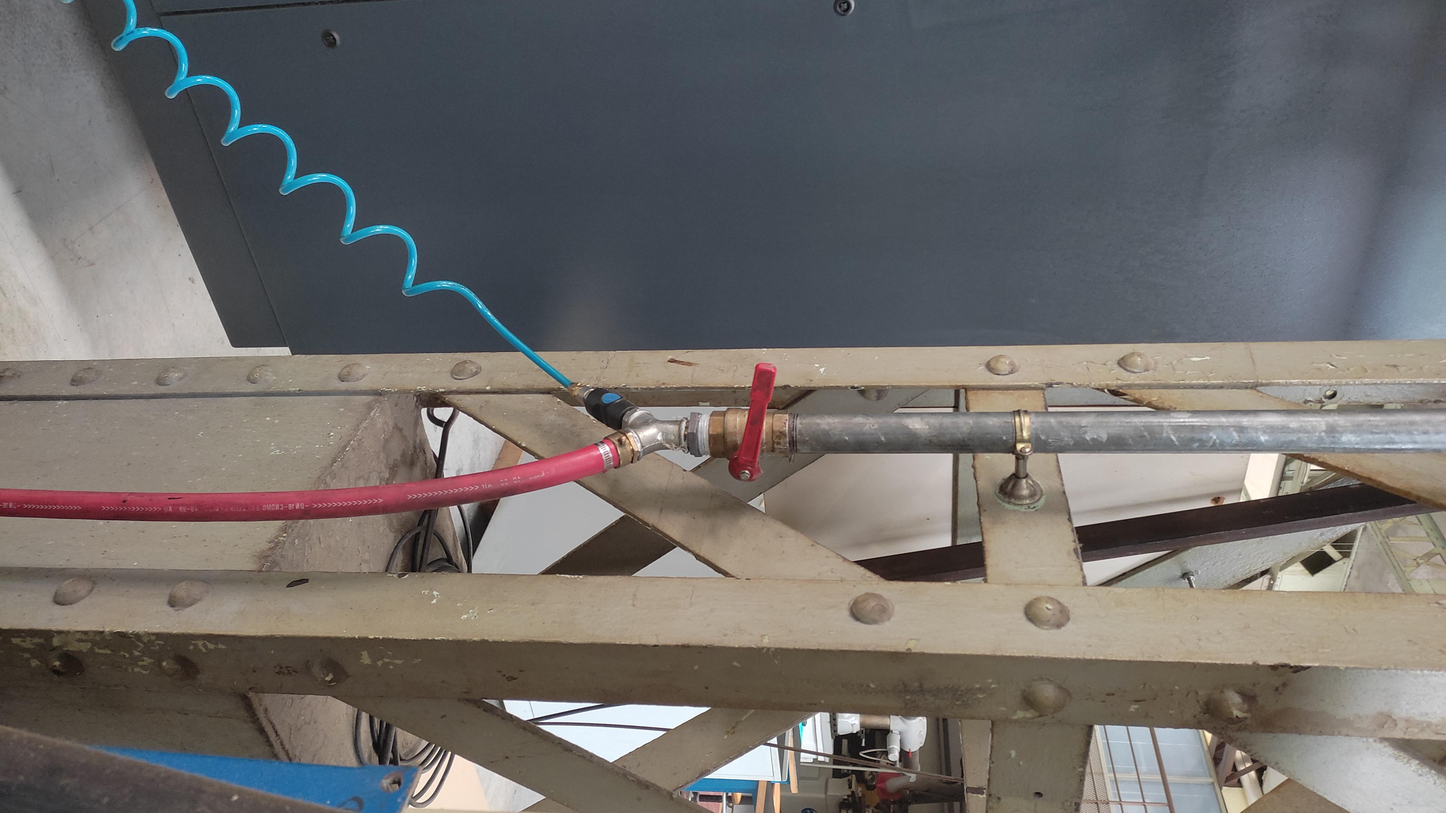closed valve: (699, 358, 801, 486)
